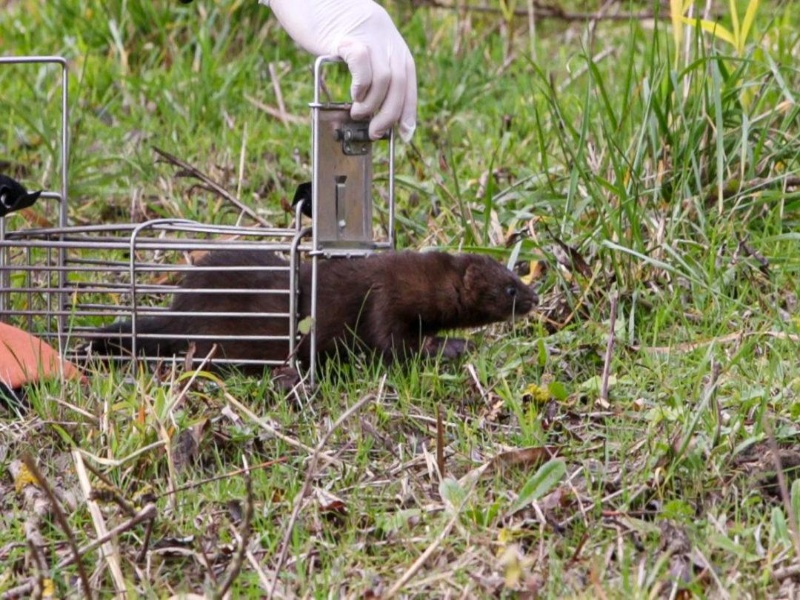minkish: (80, 241, 545, 369)
